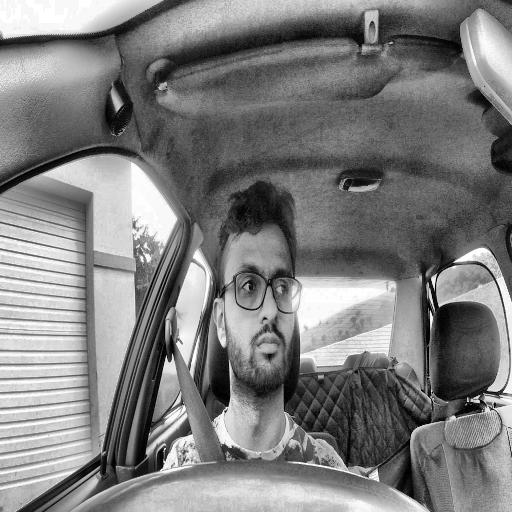awake: (212, 182, 303, 406)
